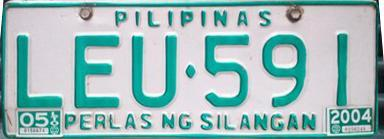plate: (1, 1, 378, 138)
